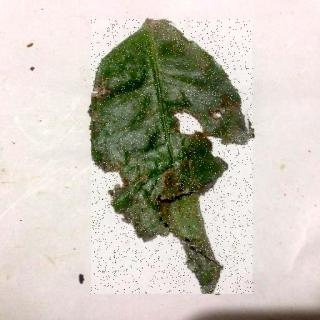Red Leaf Spot: (93, 21, 255, 295)
